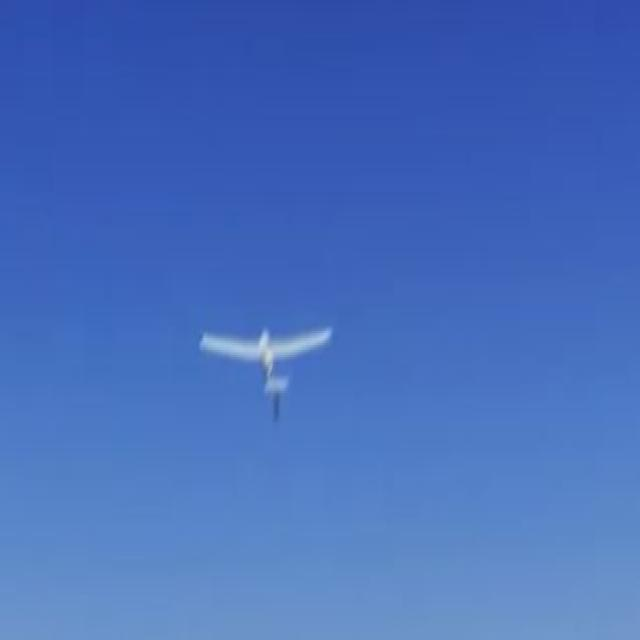iha: (195, 355, 323, 391)
